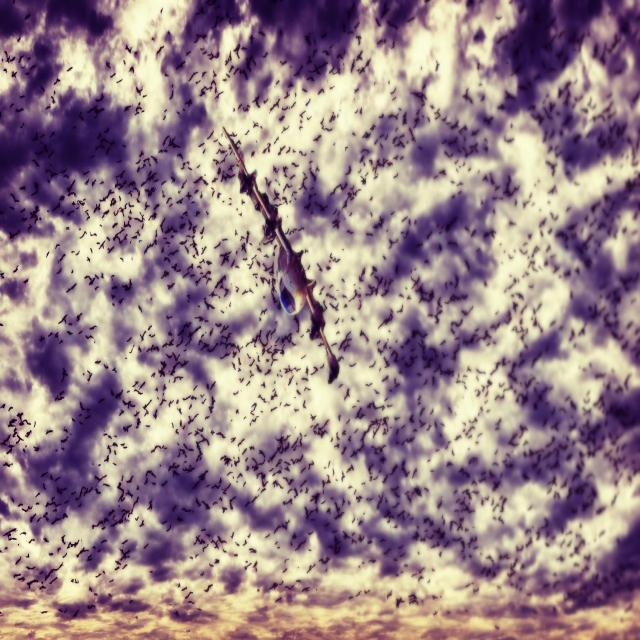airplane: (221, 125, 340, 384)
